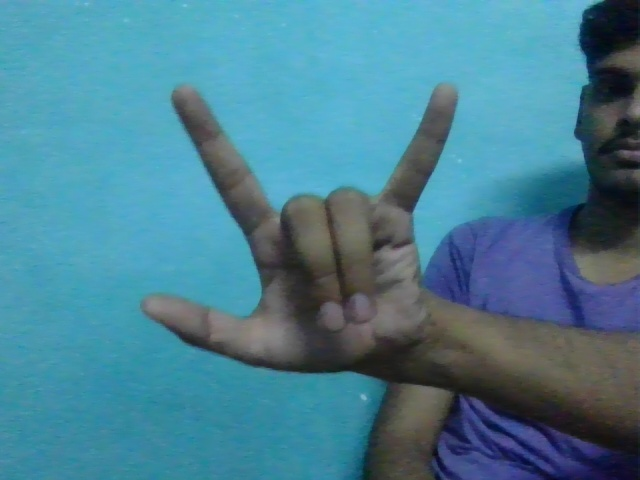iloveyou: (148, 88, 468, 393)
